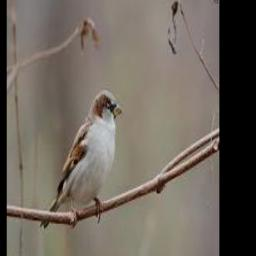Sparrow: (39, 90, 122, 228)
